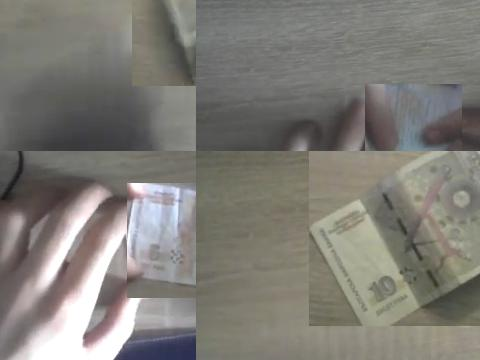10leva: (309, 151, 480, 326)
20leva: (392, 84, 462, 151)
5leva: (127, 183, 196, 286)
